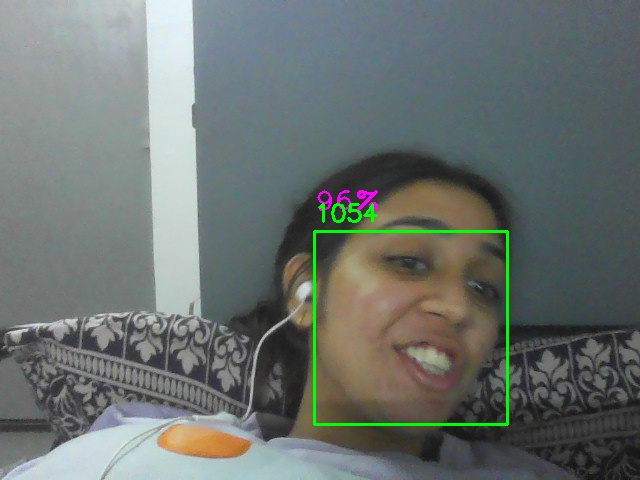real: (314, 231, 508, 425)
